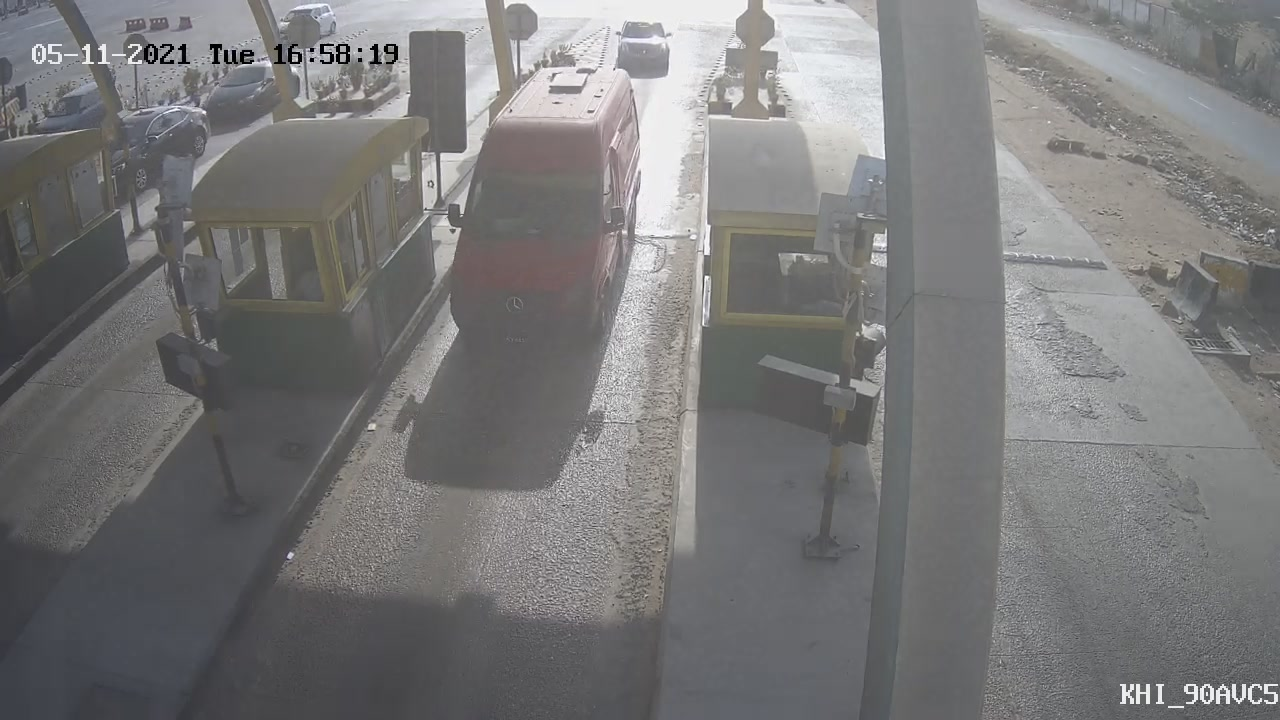F2: (424, 43, 663, 378)
